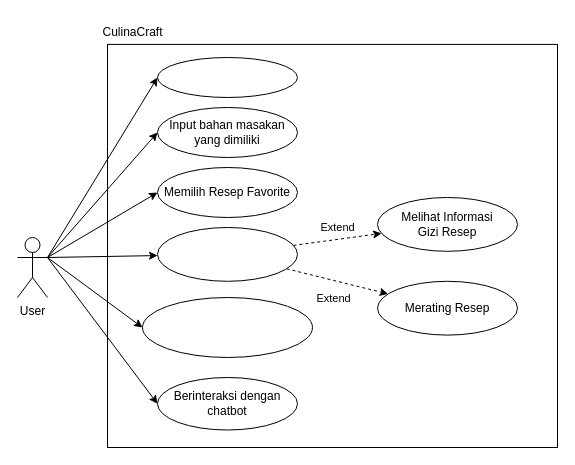
Image size: 575x465. Some labels were removed from this diagram. Each missing label, with the centre of its shape:
Daftar Akun: (227,77)
Mencari Resep: (227,253)
Tampilkan rekomendasi resep: (227,327)
